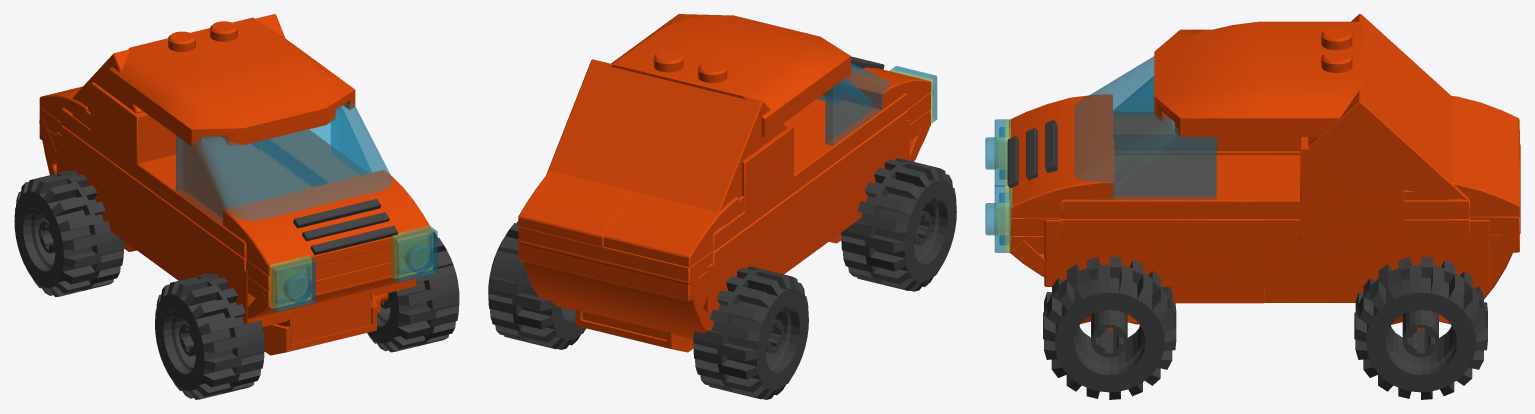
File: red.gltf
The picture shows the model from 3 angles, left to right: view 1: azimuth 30°, elevation 25°; view 2: azimuth 150°, elevation 25°; view 3: azimuth 270°, elevation 25°; orthographic projection. The views are drawn at different scales.
Visible parts, largest first — view 1: L1x4Flat5; view 2: L1x4Flat5; view 3: L1x4Flat5.
Part boxes in pixels (x1=…): L1x4Flat5: x1=14, y1=14, x2=459, y2=399; L1x4Flat5: x1=488, y1=14, x2=956, y2=399; L1x4Flat5: x1=985, y1=14, x2=1520, y2=399.
Size of the model in its own units: 2.32 by 2.26 by 3.8.
